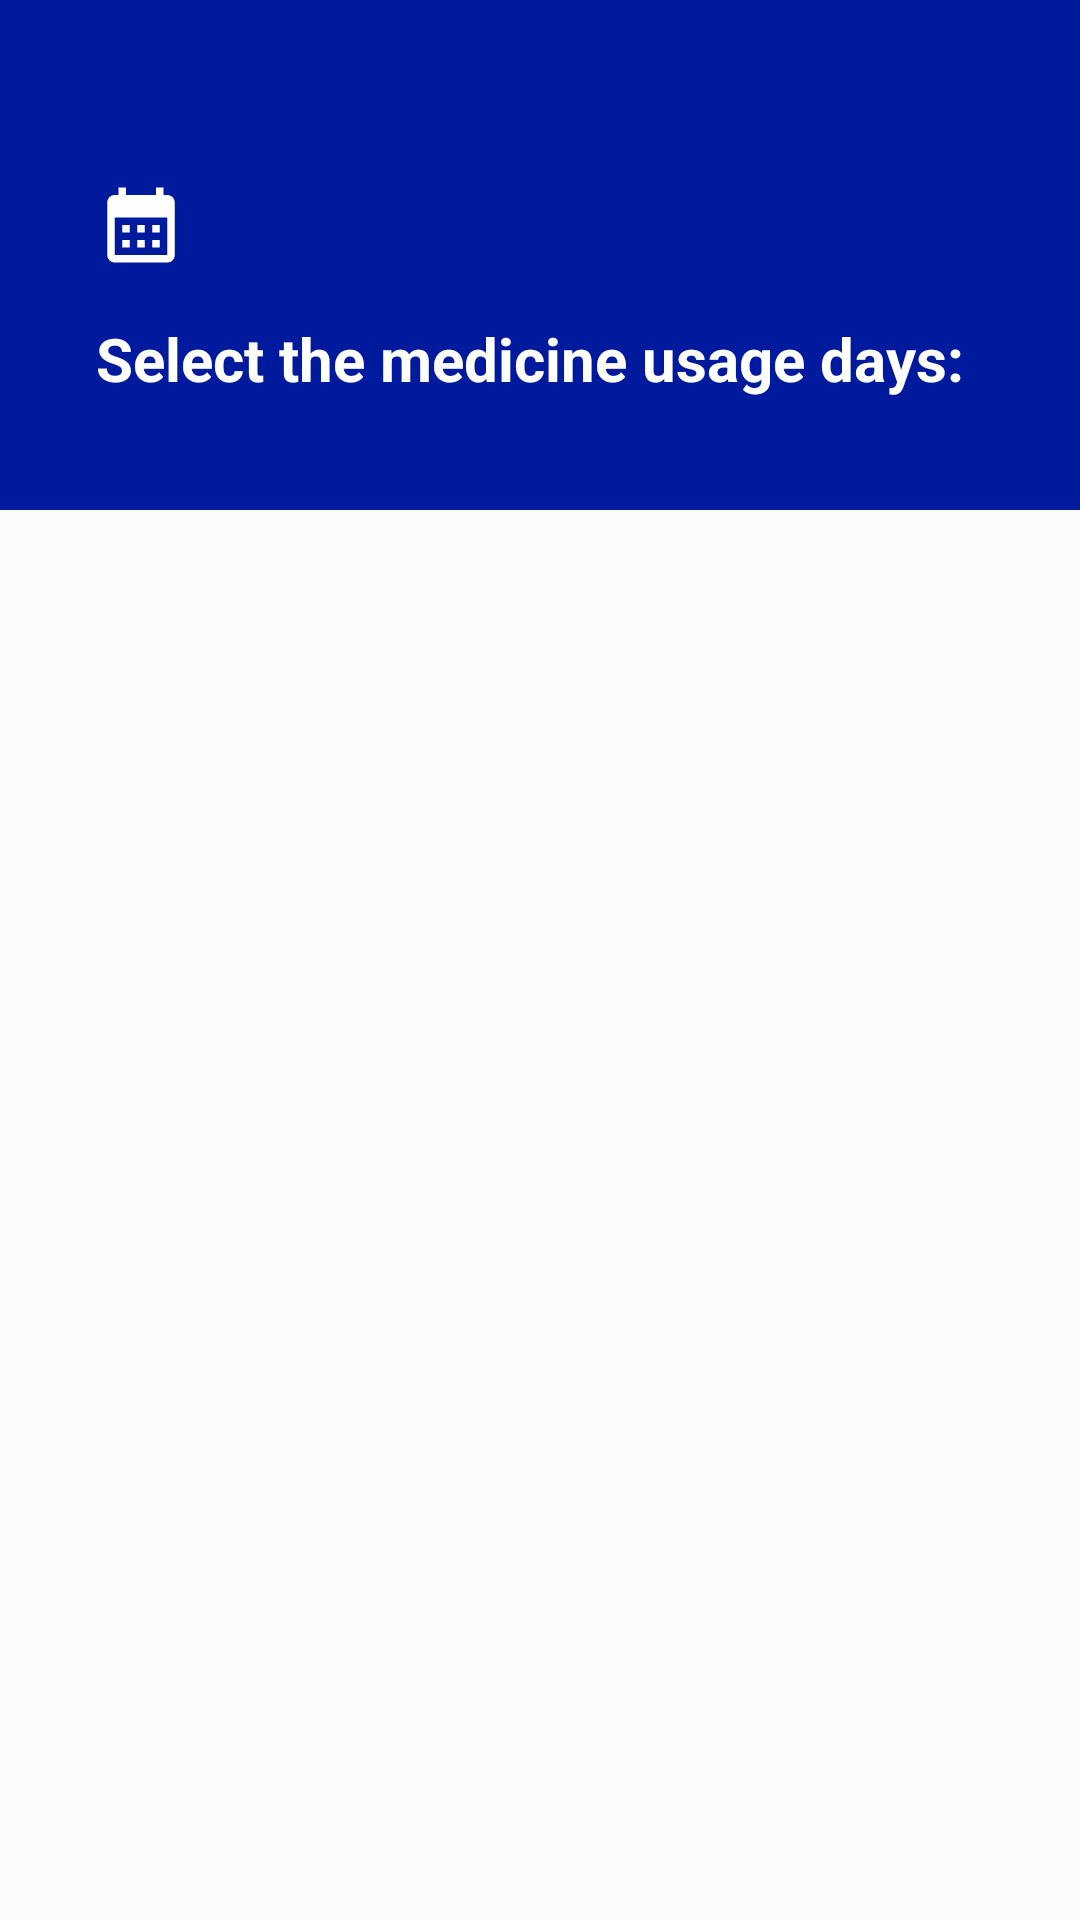

Icon click points for this 1080px×1920px phone screenshot, format [x,y]:
calendar month: [141,225]
